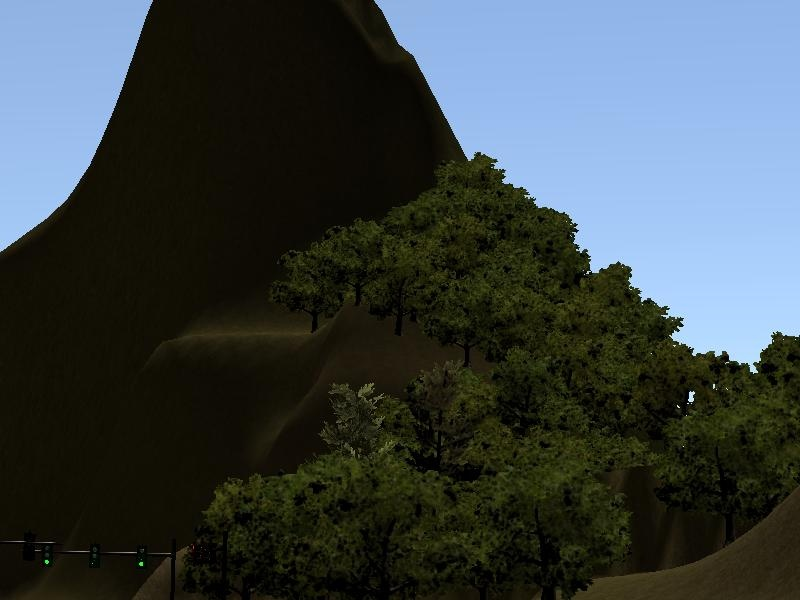GREEN: (37, 533, 57, 572), (132, 536, 151, 574)
